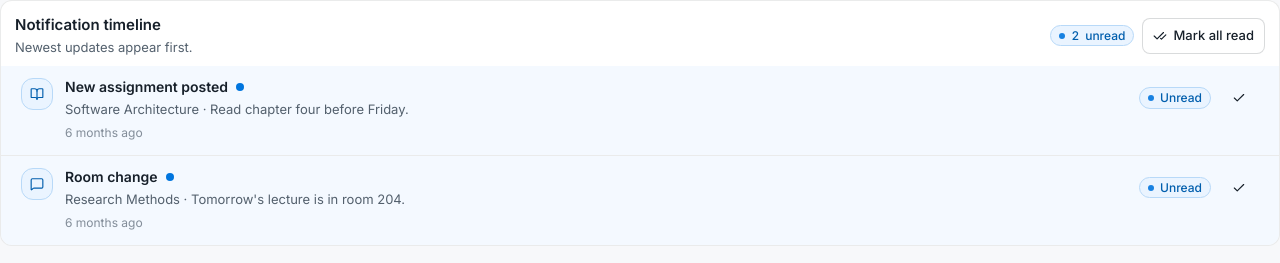
NotificationsClient › marks every unread notification as read
The width and height of the screenshot is (1280, 263).
Click the button "Mark all read" at coordinates (1204, 36), box [1142, 18, 1265, 54]
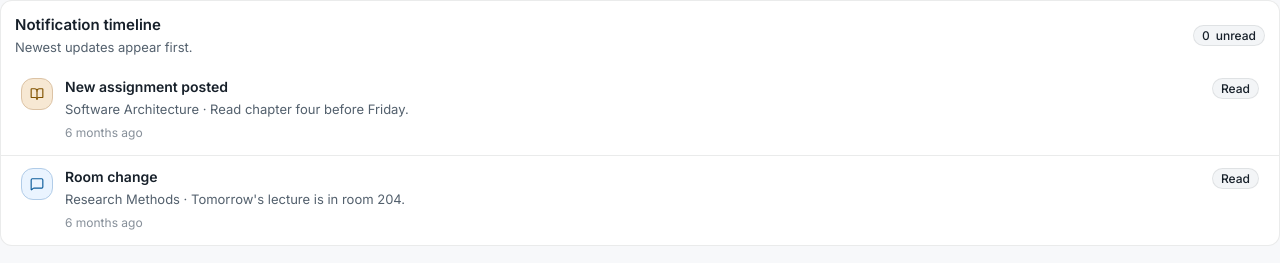
Result: the text "Read" is shown 2 times at [1212, 78, 1259, 99]; [1212, 168, 1259, 189]
Result: the button "Mark all read" is gone
